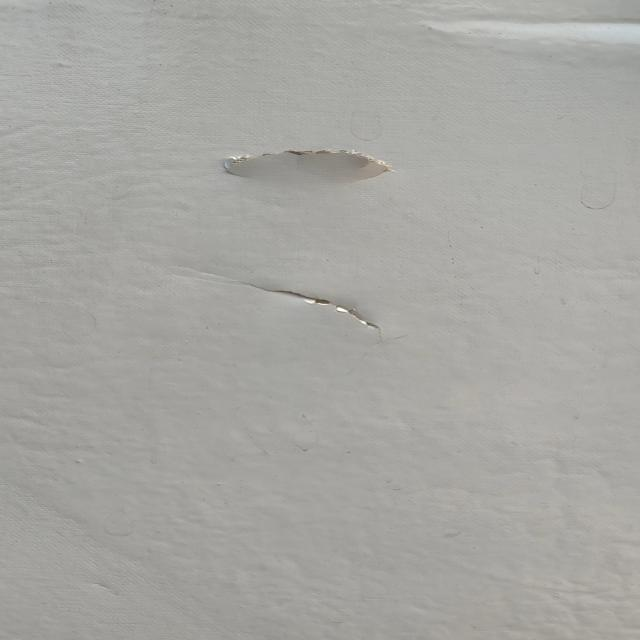Dents or Deformation: (400, 3, 640, 59)
Scratches: (218, 269, 424, 349), (177, 138, 416, 192)
